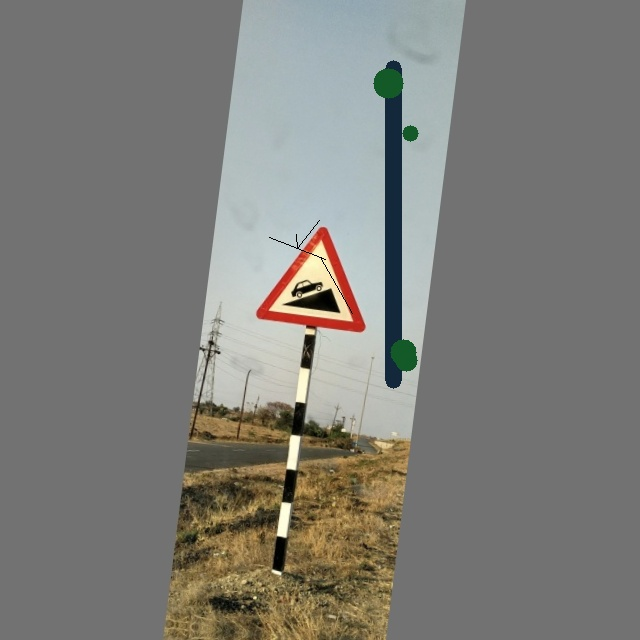Steep_Ascent: (258, 221, 380, 338)
